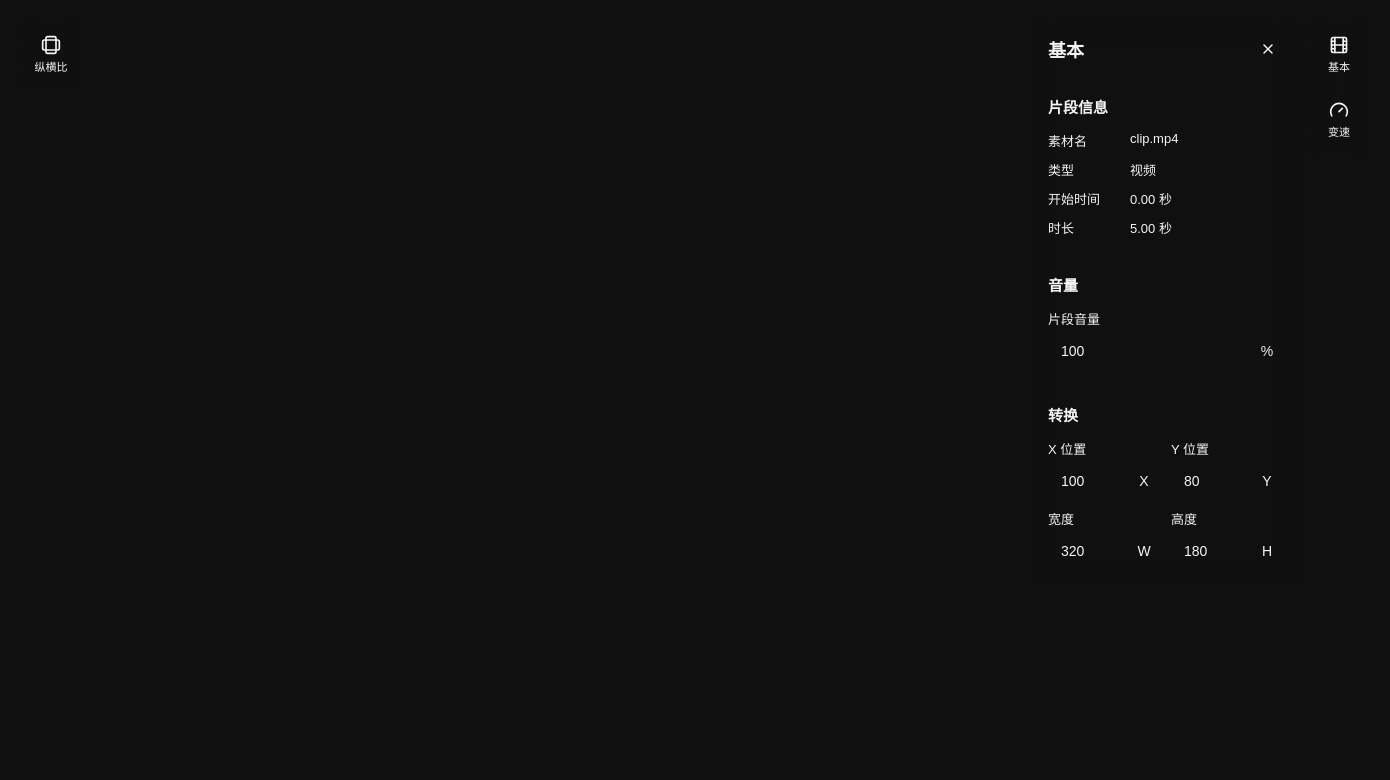
Test: PreviewPanel › shows a moved transform live and commits it once on pointer up
Press the mouse on the drawing named "视频预览" at (695, 319), box [12,12,1378,627]
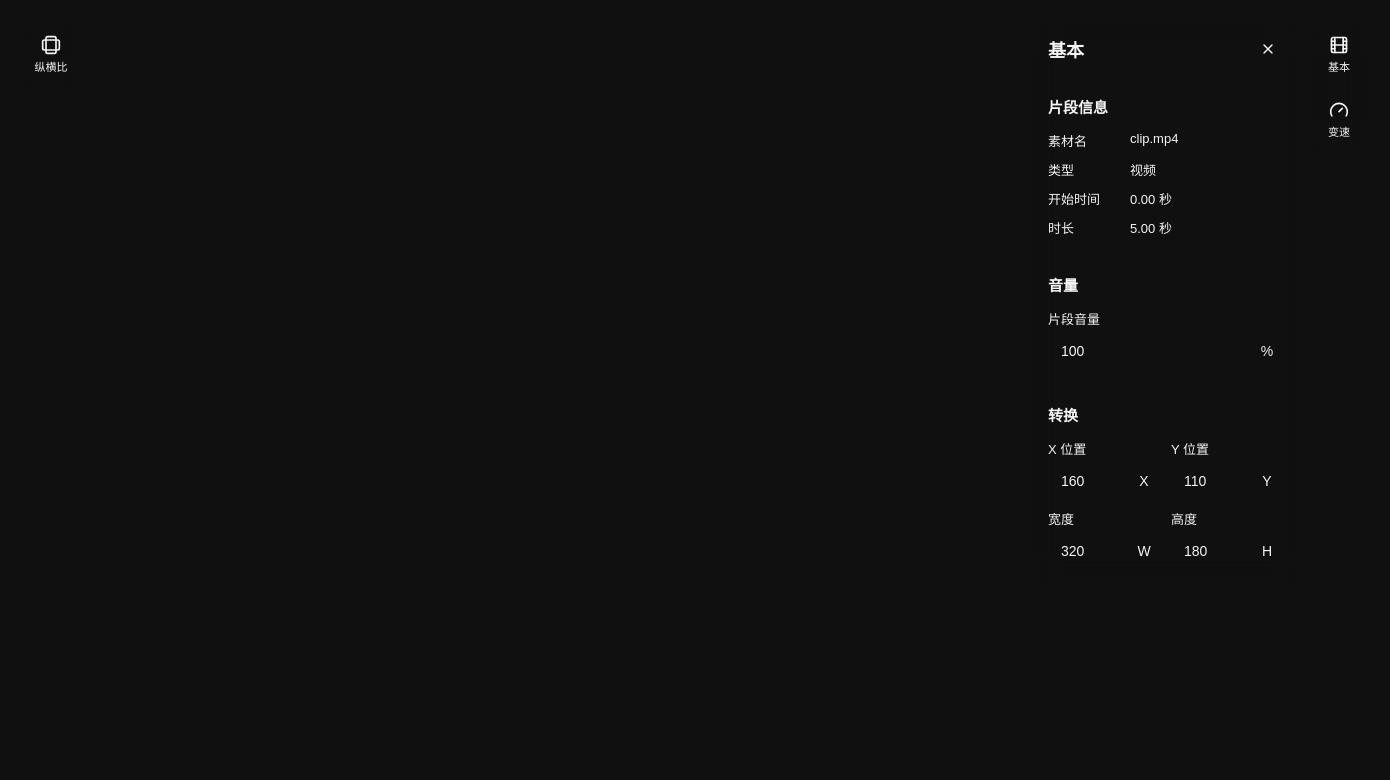
Check: the number field named "X 位置" holds "160", box [1049,466,1128,496]
Check: the number field named "Y 位置" holds "110", box [1172,466,1251,496]
